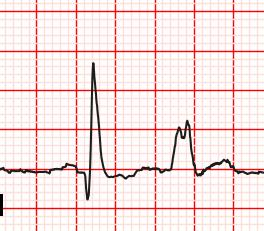Pathological Q Wave: (80, 164, 95, 204)
